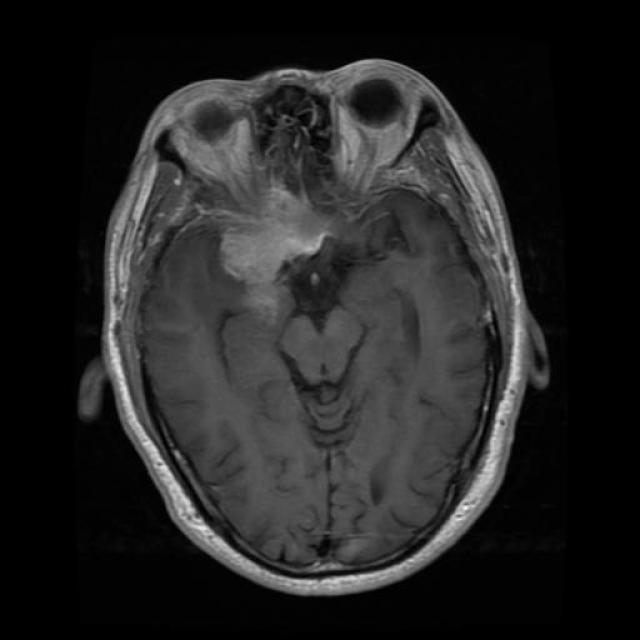meningioma: (224, 229, 320, 285)
